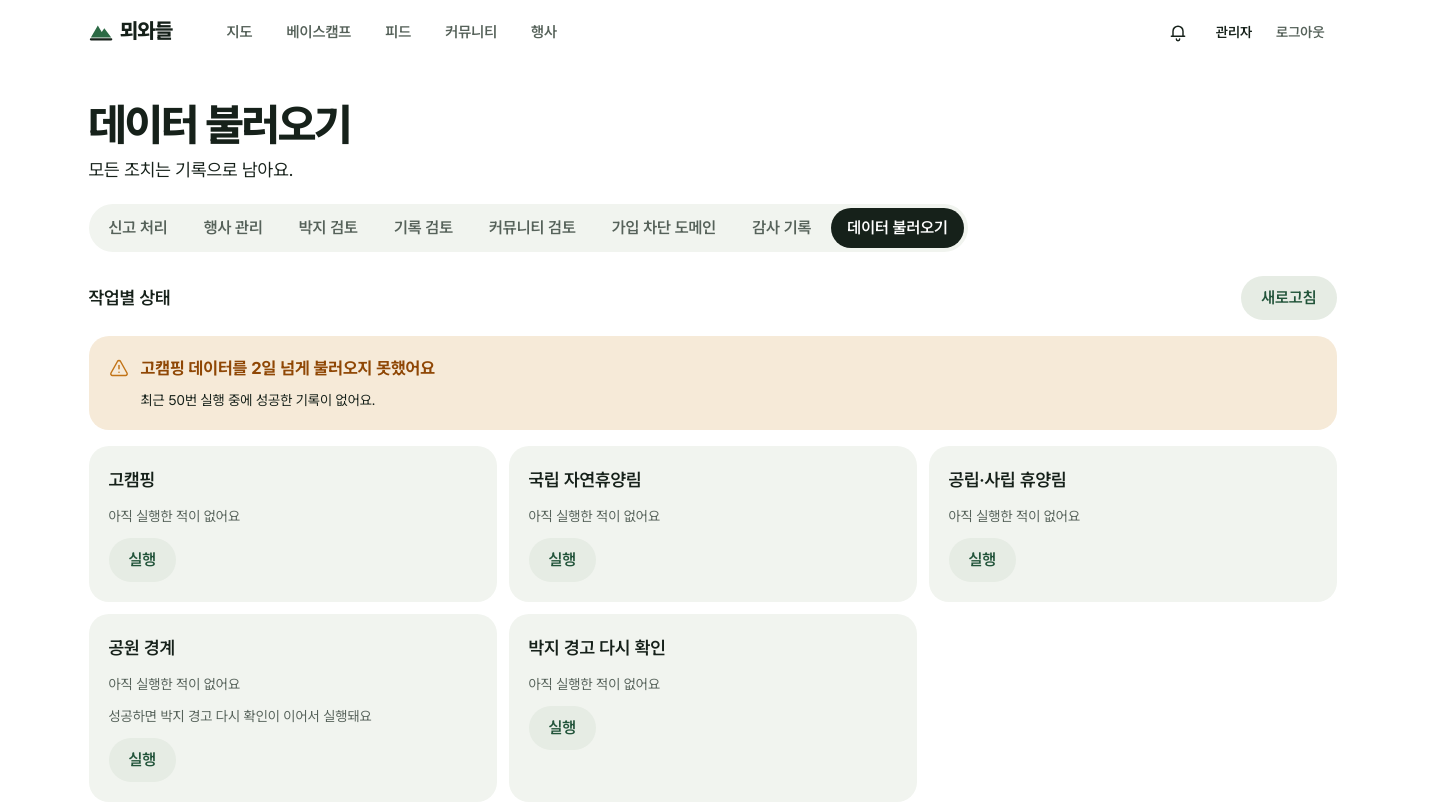
it: 관리자 데이터 불러오기 › 작업을 시작하지 못하면 그 카드에 오류를 보여 주고 대화상자를 닫는다
Click the 1st button "실행" at (142, 560), box [108, 538, 176, 582]
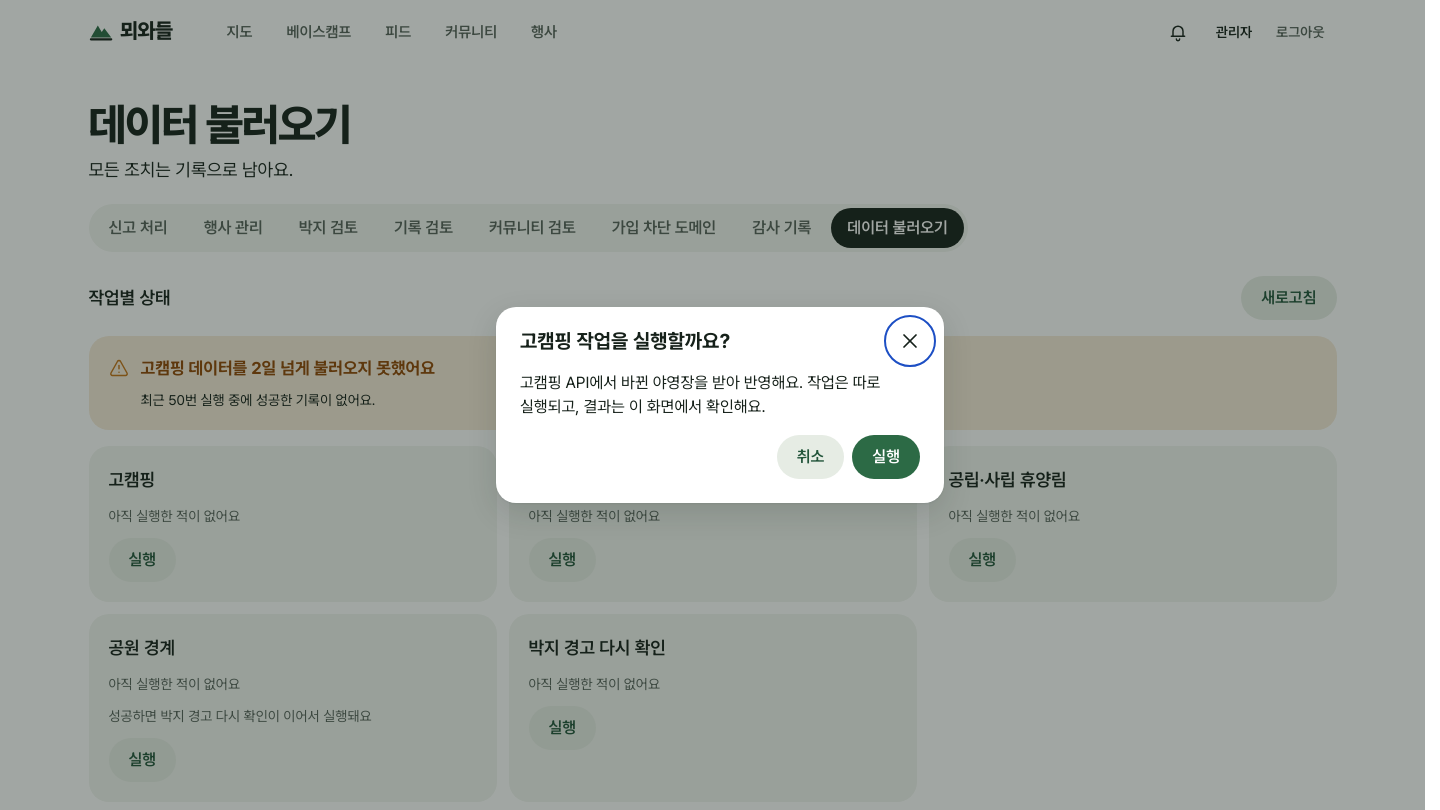
Click the button "실행" at (886, 457), box [852, 435, 920, 479]
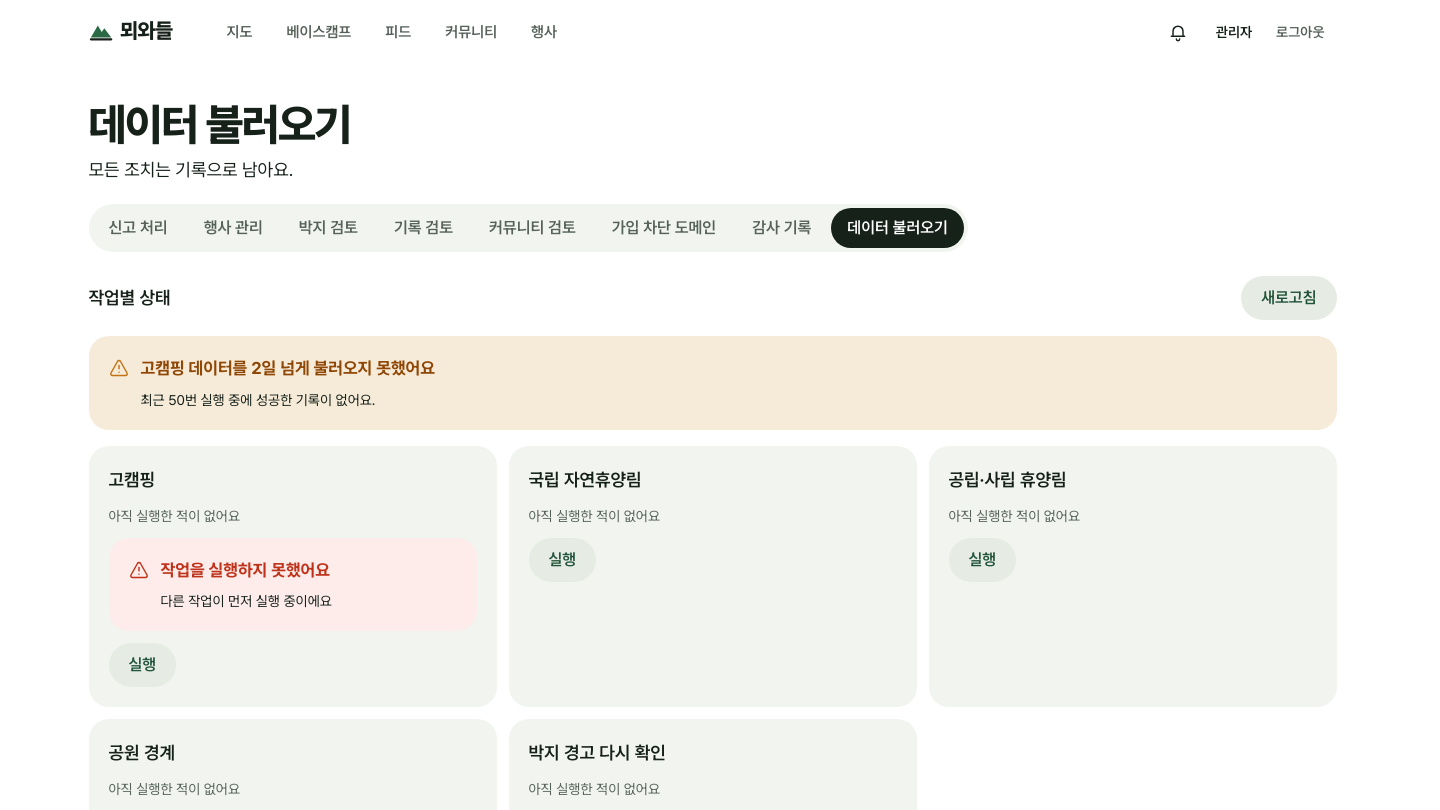
Now the dialog is gone
